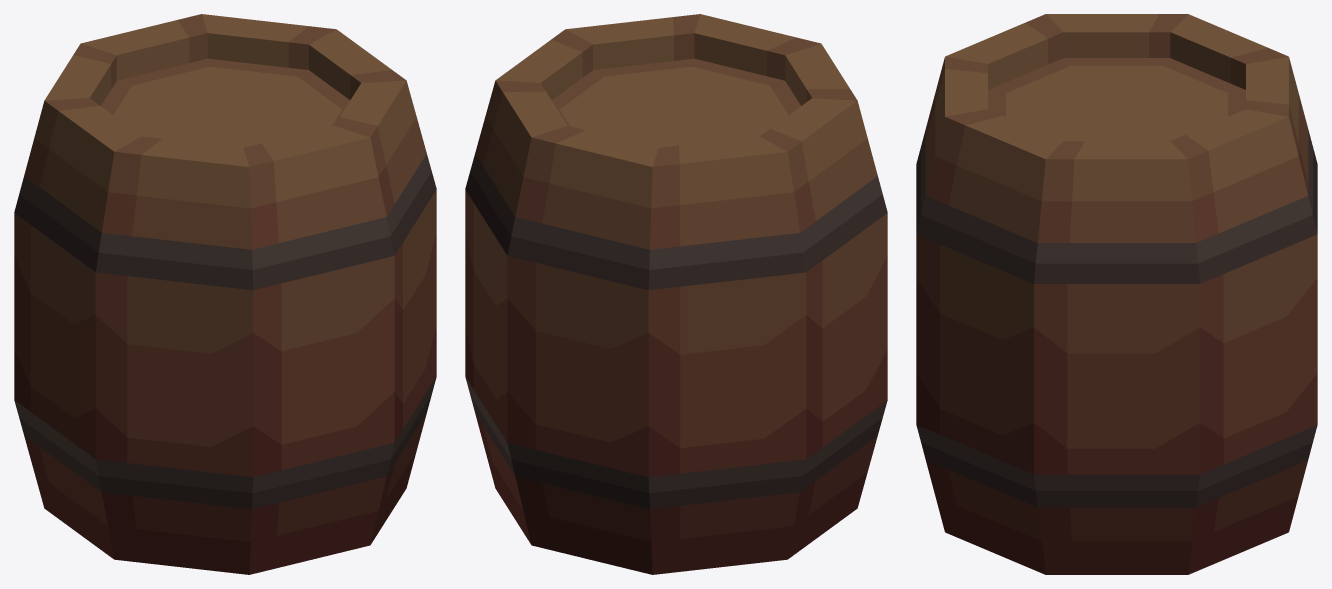
The model's file is barrel1.fbx.
3 renders of one model, left to right at view 1: azimuth 30°, elevation 25°; view 2: azimuth 150°, elevation 25°; view 3: azimuth 270°, elevation 25°, orthographic.
Parts seen in each view (by area): view 1: barrel; view 2: barrel; view 3: barrel.
Boxes of the visible parts, left/top/right/bottom form: barrel: left=14, top=14, right=436, bottom=574; barrel: left=465, top=14, right=887, bottom=574; barrel: left=916, top=14, right=1317, bottom=574.
Size of the model in its own units: 87.5 by 100 by 87.5.
1 material, 1 textured.
